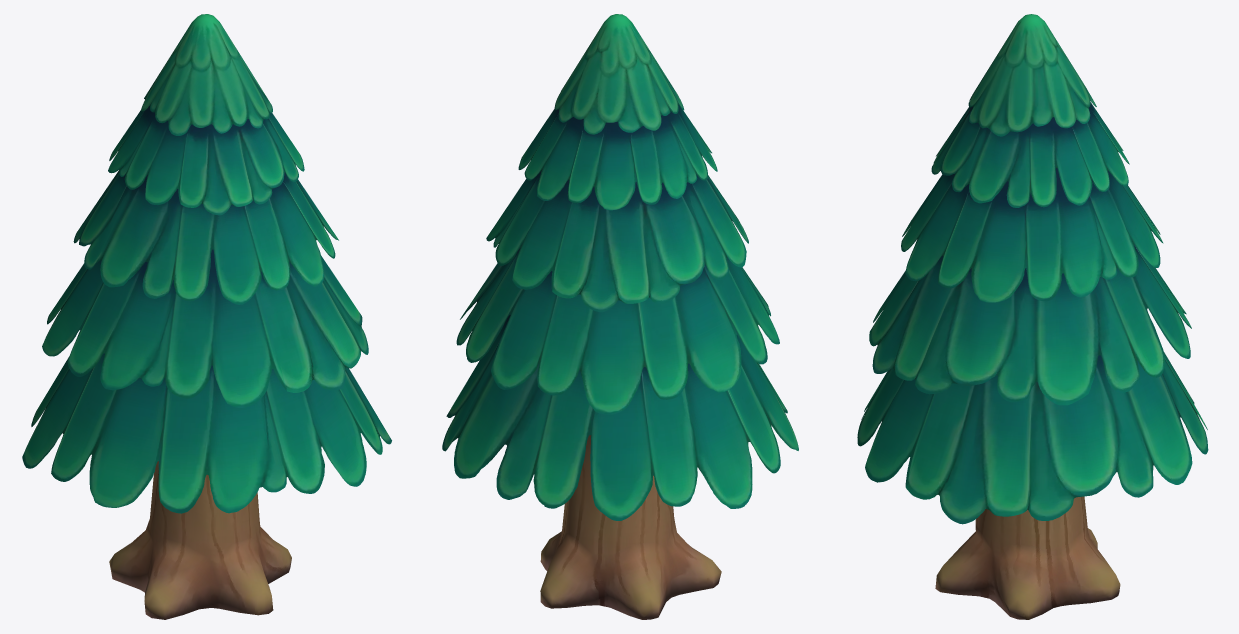
The model's file is pine-transformed.glb.
3 views of the same model, side by side, from view 1: azimuth 30°, elevation 25°; view 2: azimuth 150°, elevation 25°; view 3: azimuth 270°, elevation 25° (orthographic).
Parts seen in each view (by area): view 1: pine_leef, pine; view 2: pine_leef, pine; view 3: pine_leef, pine.
Part boxes in pixels (x1,y1,x2,y2): pine_leef: (22,14,391,513); pine: (109,461,291,619); pine_leef: (442,14,798,520); pine: (540,435,721,619); pine_leef: (857,14,1208,524); pine: (935,496,1120,619).
Size of the model in its own units: 2.39 by 3.87 by 2.39.
2 materials, 2 textured.
